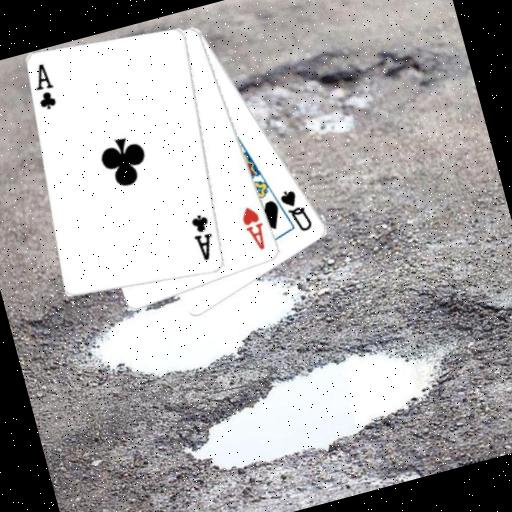AC: (27, 59, 61, 114), (186, 210, 220, 264)
AH: (236, 201, 271, 254)
QS: (275, 182, 315, 238)
